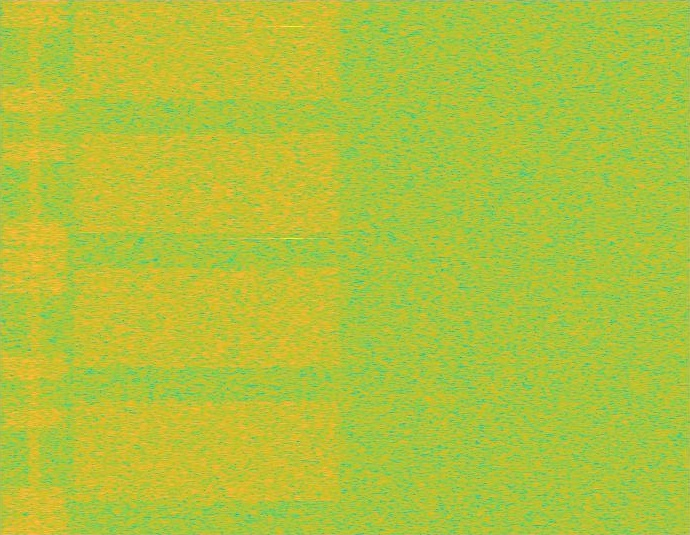5G: (69, 0, 345, 534)
DSSS: (27, 0, 42, 534)
LTE: (0, 0, 69, 534)
Radar: (285, 0, 299, 534)
